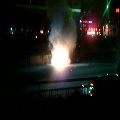fire: (51, 47, 70, 70)
